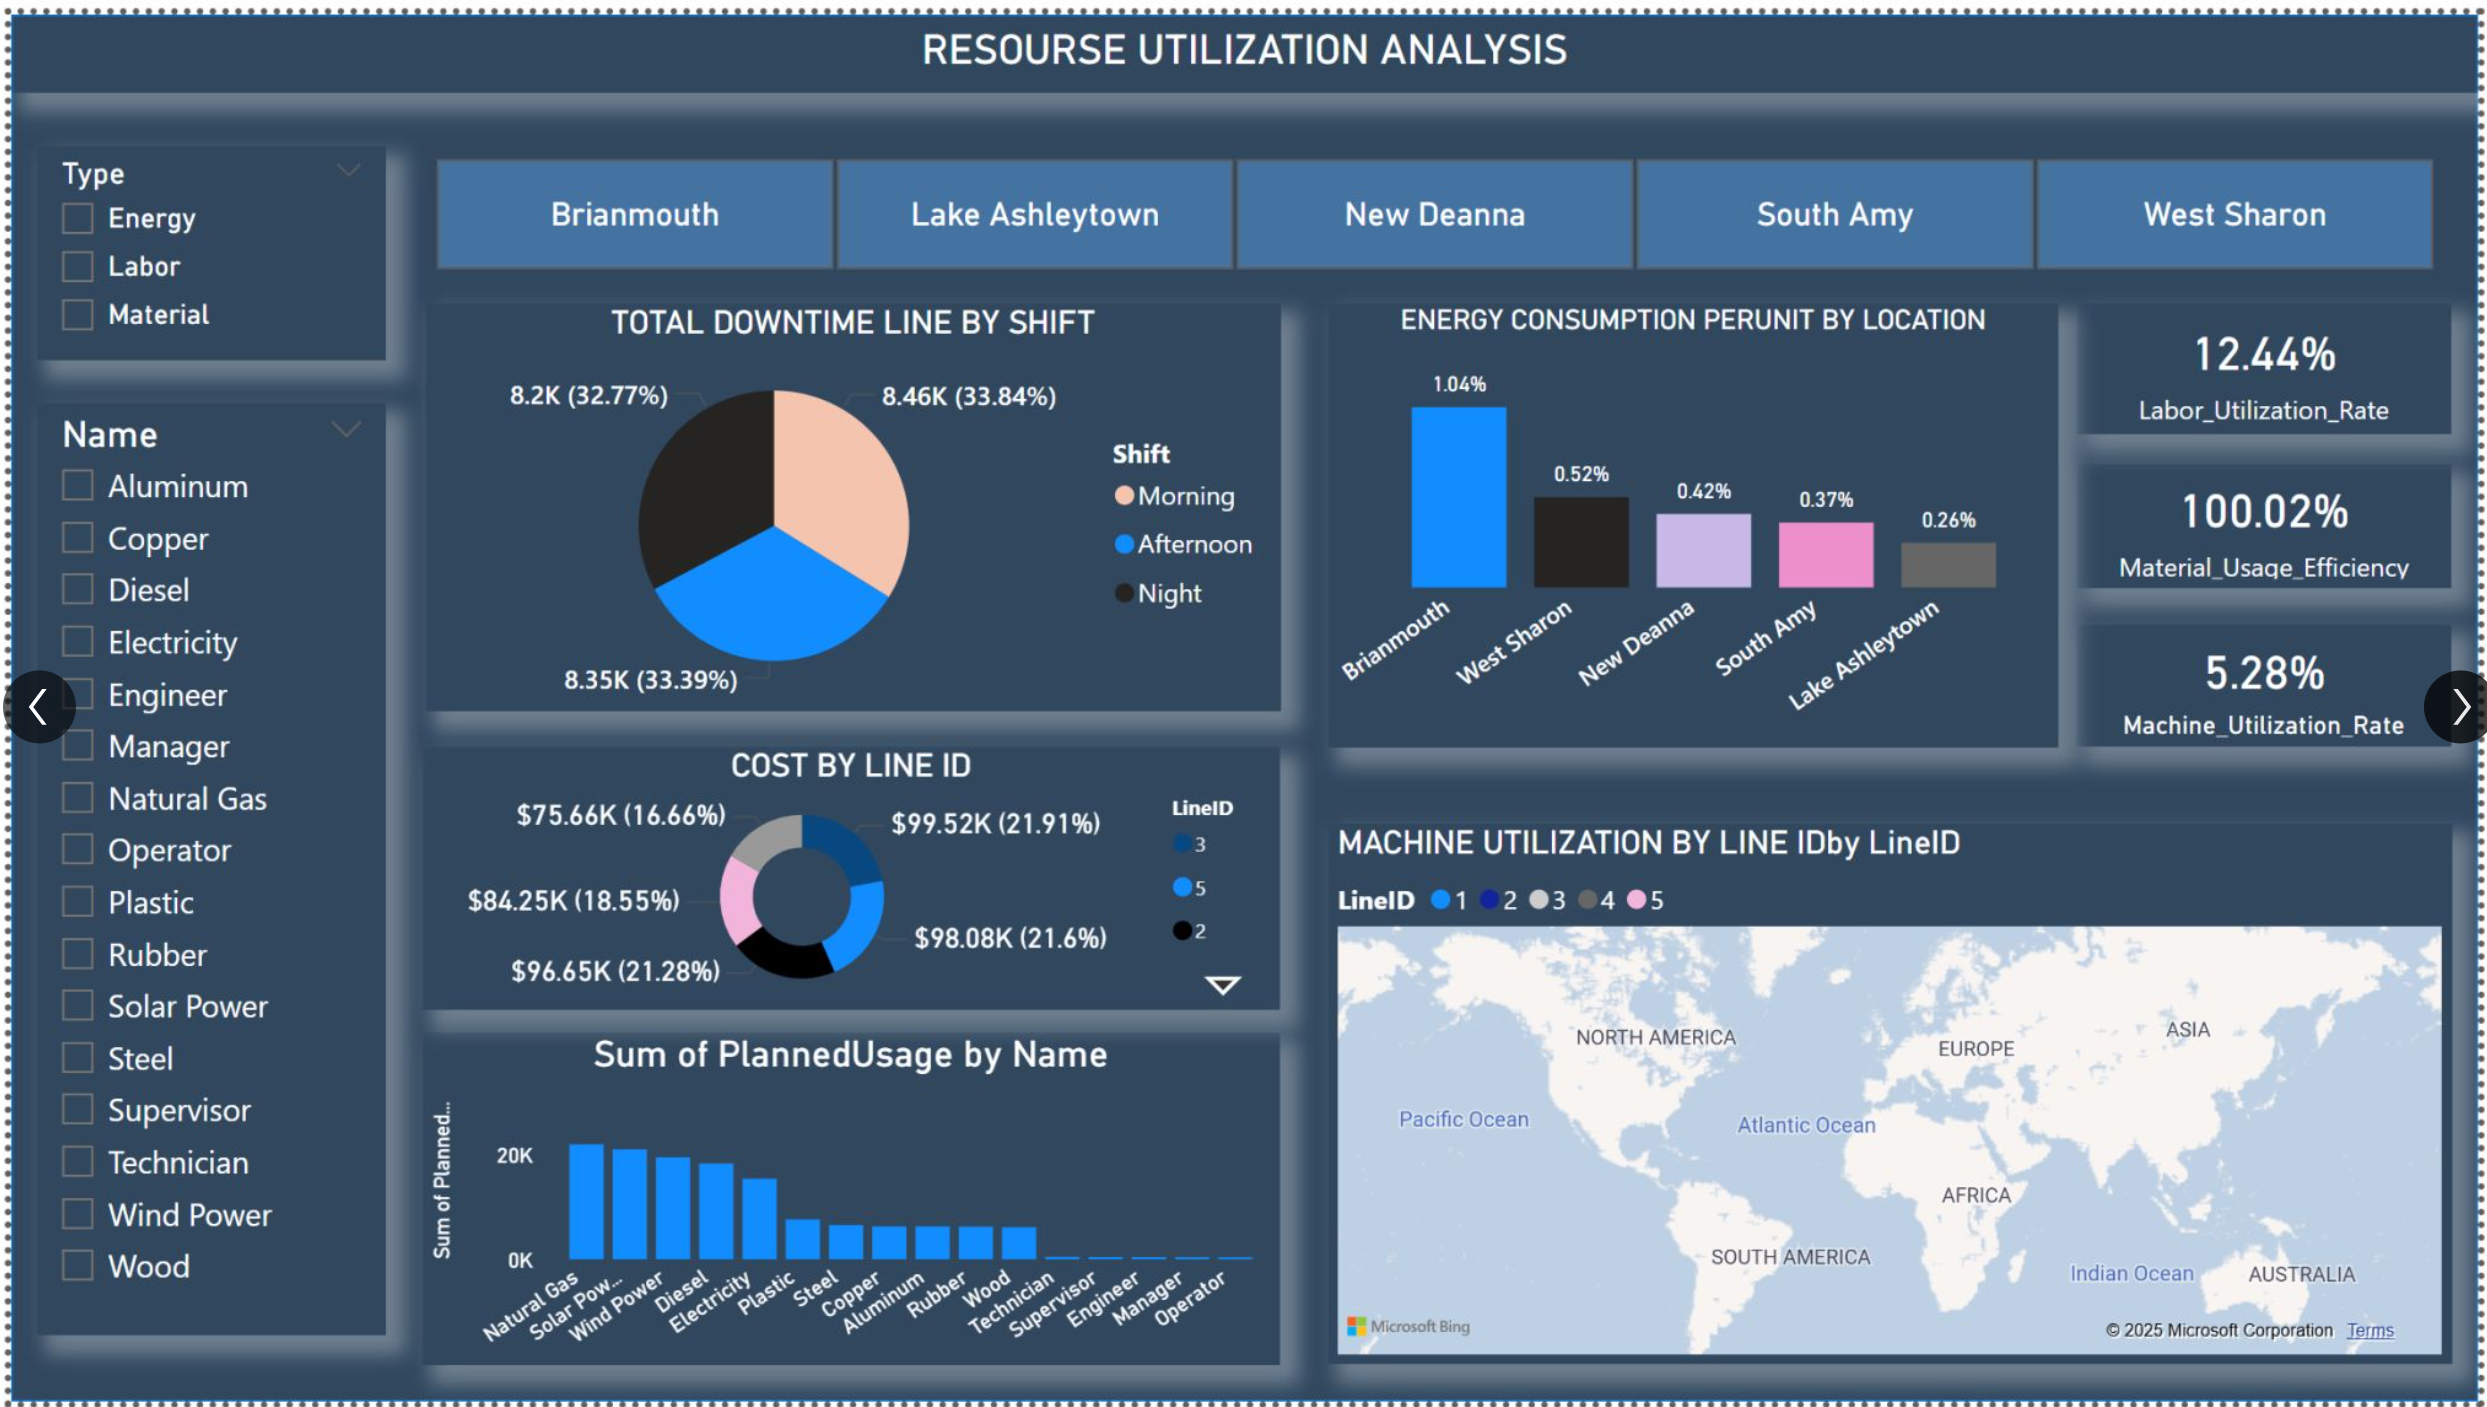

This screenshot's page, from the dashboard's own definition file:
{"tool":"powerbi","page":{"name":"Resource Utilization Anaysis","canvas":[1280,720],"ordinal":1},"visuals":[{"type":"shape","box":[0,0,1280.2,720],"z":0},{"type":"card","fields":{"Values":["resource_data.Material_Usage_Efficiency"]},"box":[1071.4,233.3,194.4,64.8],"z":1000},{"type":"card","fields":{"Values":["shifts_data.Labor_Utilization_Rate"]},"box":[1071.4,149.8,194.4,67.7],"z":2000},{"type":"card","fields":{"Values":["machines_data.Machine_Utilization_Rate"]},"box":[1071.4,316.8,194.4,63.4],"z":3000},{"type":"map","title":"MACHINE UTILIZATION BY LINE IDby LineID","fields":{"Size":["machines_data.Machine_Utilization_Rate"],"Series":["production_data.LineID"]},"box":[682.6,420.5,583.2,280.8],"z":4000},{"type":"pieChart","title":"TOTAL DOWNTIME LINE BY SHIFT","fields":{"Category":["production_data.Shift"],"Y":["lines_data.TotalDowntimeByLine"]},"box":[214.6,149.8,443.5,211.7],"z":5000},{"type":"columnChart","title":"ENERGY CONSUMPTION PERUNIT BY LOCATION","fields":{"Category":["lines_data.Location"],"Y":["resource_data.Energy_Consumption_Per_Unit"]},"box":[682.6,149.8,378.7,230.4],"z":6000},{"type":"slicer","fields":{"Values":["resource_data.Type"]},"box":[13,67.7,181.4,110.9],"z":7000},{"type":"slicer","fields":{"Values":["resource_data.Name"]},"box":[13,201.6,181.4,483.8],"z":8000},{"type":"slicer","fields":{"Values":["lines_data.Location"]},"box":[194.4,67.7,1085.8,70.6],"z":9000},{"type":"columnChart","fields":{"Category":["resource_data.Name"],"Y":["Sum(resource_data.PlannedUsage)"]},"box":[213.1,528.5,445,172.8],"z":10000},{"type":"donutChart","title":"COST BY LINE ID","fields":{"Y":["Sum(resource_data.Cost)"],"Category":["resource_data.LineID"]},"box":[213.1,380.2,445,136.8],"z":11000},{"type":"textbox","box":[0,0,1280.2,40.3],"z":12000}]}

Visuals, with their boxes in screenshot pixels (x1, y1, x2, y2), scaled from the page's 1280x720 canvas onto the 2487x1407 screenshot:
shape: (left=0, top=0, right=2486, bottom=1406)
card - resource_data.Material_Usage_Efficiency: (left=2082, top=456, right=2459, bottom=583)
card - shifts_data.Labor_Utilization_Rate: (left=2082, top=293, right=2459, bottom=425)
card - machines_data.Machine_Utilization_Rate: (left=2082, top=619, right=2459, bottom=743)
"MACHINE UTILIZATION BY LINE IDby LineID" map: (left=1326, top=822, right=2459, bottom=1370)
"TOTAL DOWNTIME LINE BY SHIFT" pieChart: (left=417, top=293, right=1279, bottom=706)
"ENERGY CONSUMPTION PERUNIT BY LOCATION" columnChart: (left=1326, top=293, right=2062, bottom=743)
slicer - resource_data.Type: (left=25, top=132, right=378, bottom=349)
slicer - resource_data.Name: (left=25, top=394, right=378, bottom=1339)
slicer - lines_data.Location: (left=378, top=132, right=2486, bottom=270)
columnChart - resource_data.Name x Sum(resource_data.PlannedUsage): (left=414, top=1033, right=1279, bottom=1370)
"COST BY LINE ID" donutChart: (left=414, top=743, right=1279, bottom=1010)
textbox: (left=0, top=0, right=2486, bottom=79)
